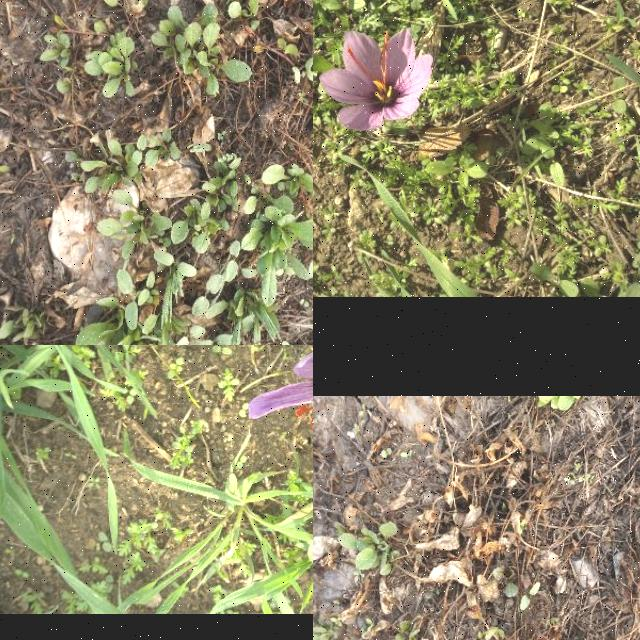flower: (320, 26, 434, 130), (248, 348, 313, 438)
